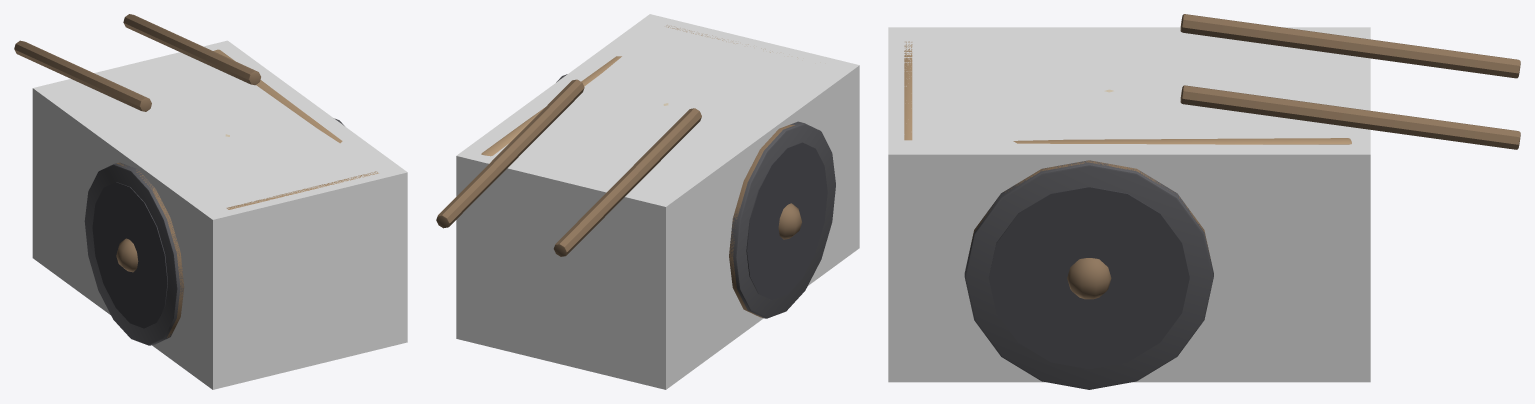
Rendered from cart.glb.
The picture shows the model from 3 angles, left to right: view 1: azimuth 30°, elevation 25°; view 2: azimuth 150°, elevation 25°; view 3: azimuth 270°, elevation 25°; orthographic projection. The views are drawn at different scales.
Visible parts, largest first — view 1: cart-col, cart; view 2: cart-col, cart; view 3: cart-col, cart.
Part boxes in pixels (<box>): cart-col: <box>32,40,407,389</box>; cart: <box>14,14,378,345</box>; cart-col: <box>456,14,859,389</box>; cart: <box>436,25,835,318</box>; cart-col: <box>888,27,1370,382</box>; cart: <box>904,14,1520,389</box>.
Size of the model in its own units: 1.79 by 1.49 by 3.15.
